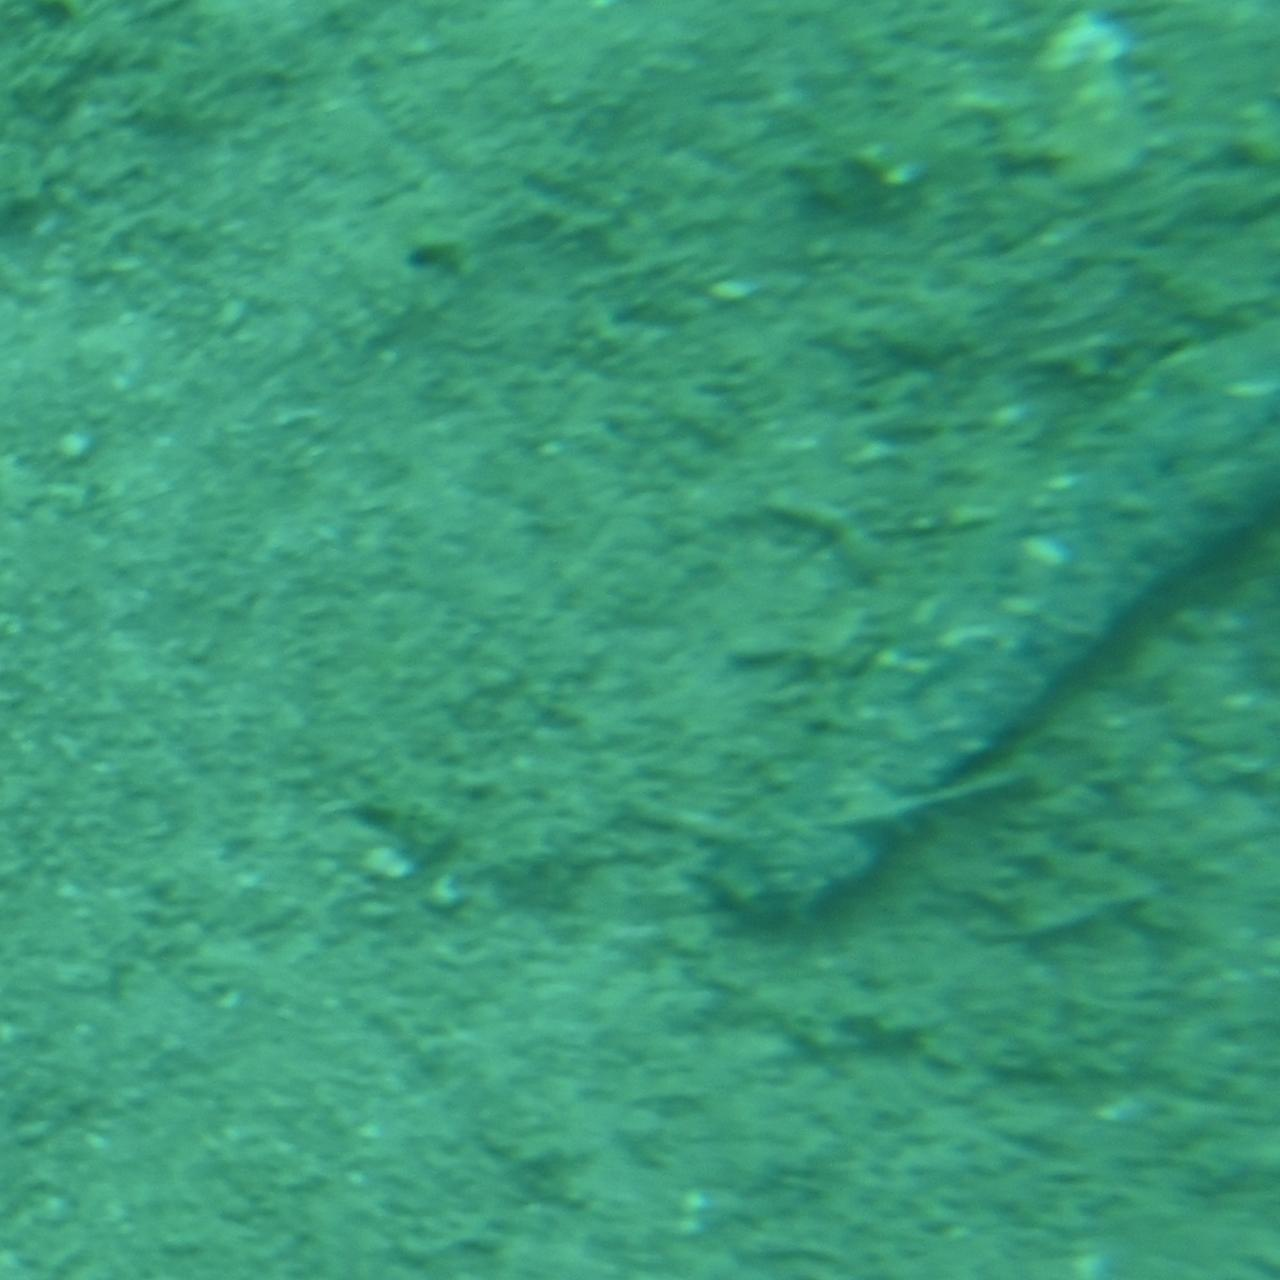Holothuria tubulosa: (696, 316, 1278, 964)
